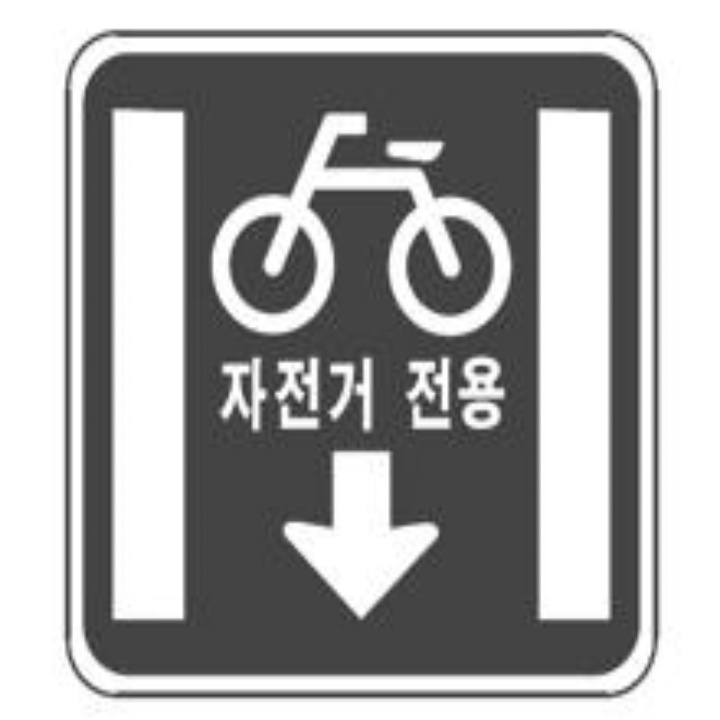bicycle: (183, 92, 526, 348)
